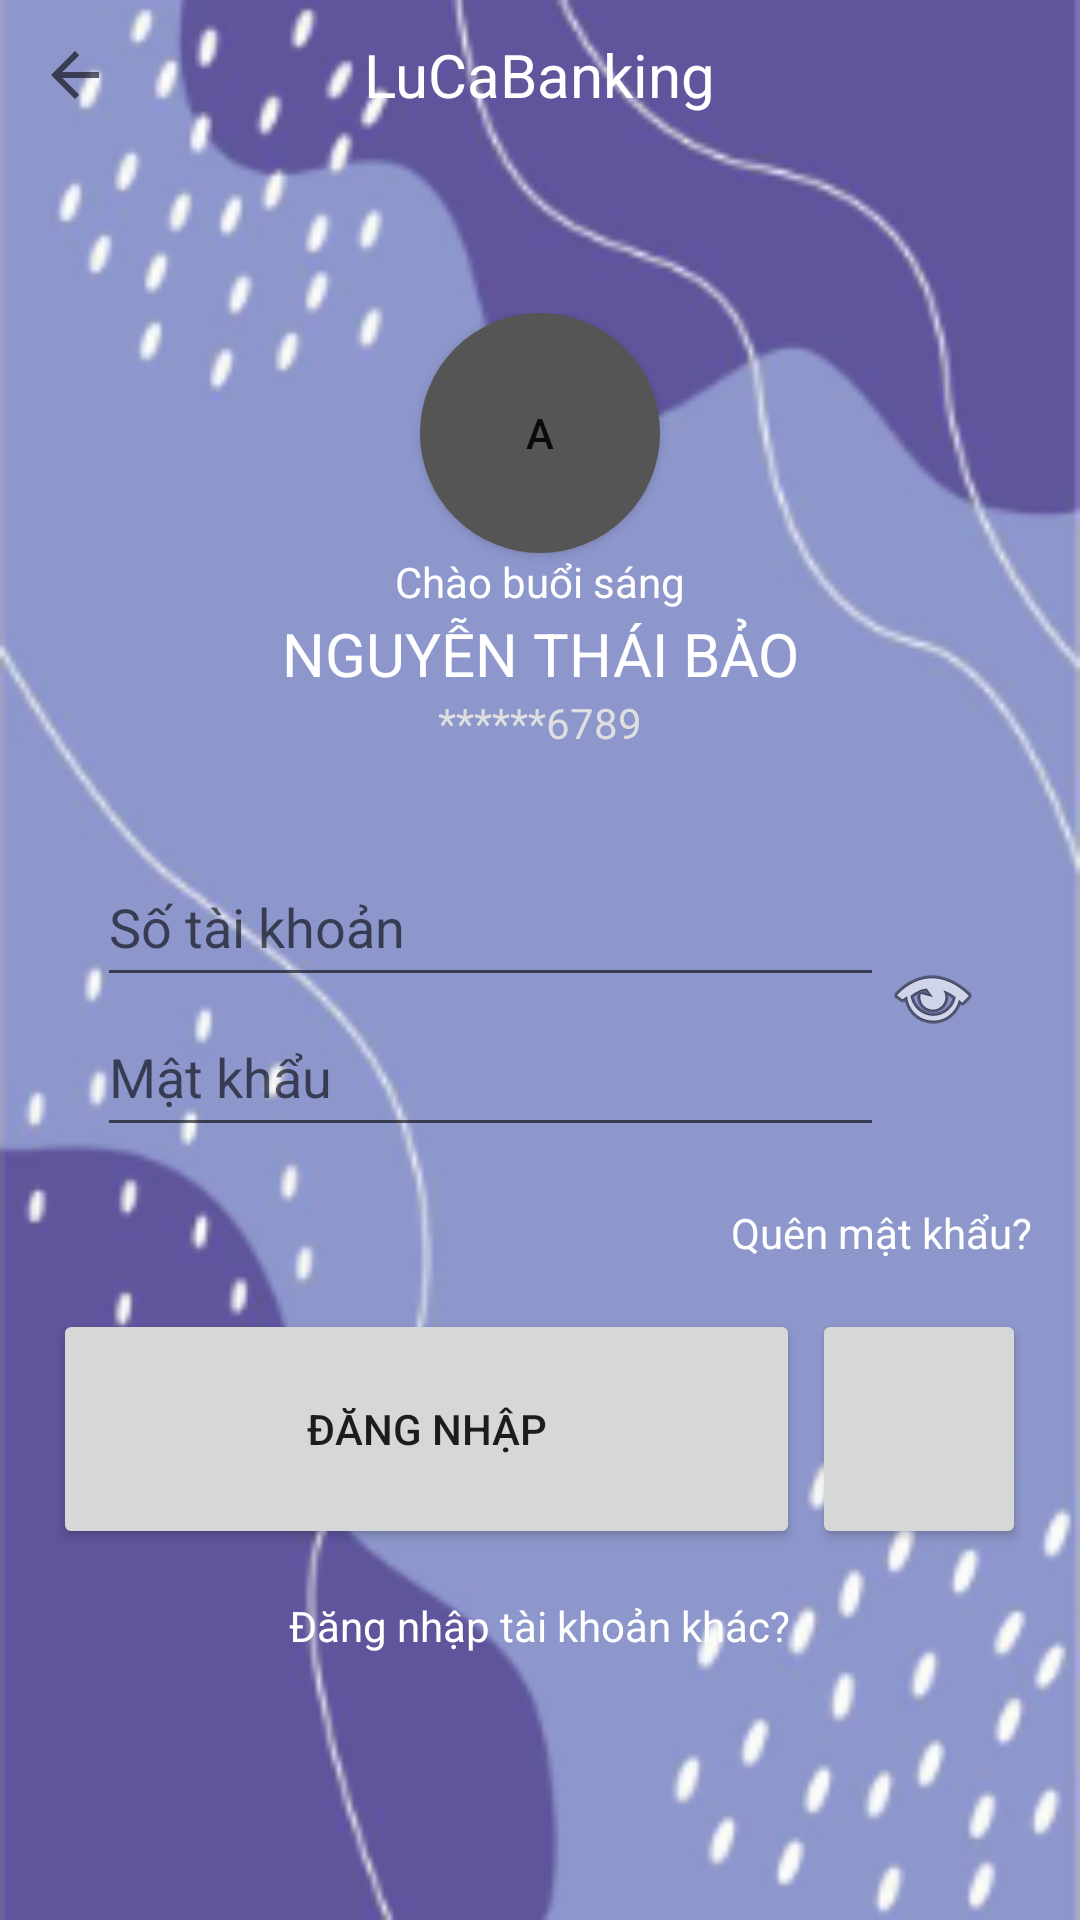

Named icons in this screenshot (1080px×1920px) and their bounding boxes, (x1, y1, x2, y2):
view: (894, 975, 972, 1024)
